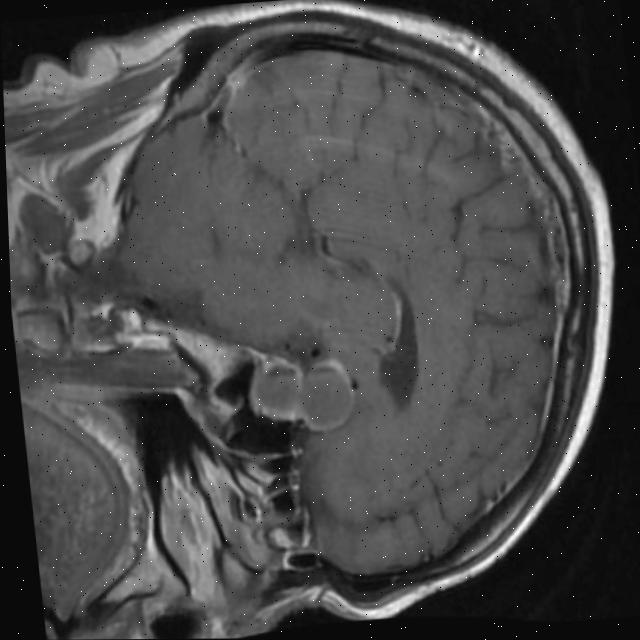Pituitary: (246, 357, 358, 438)
